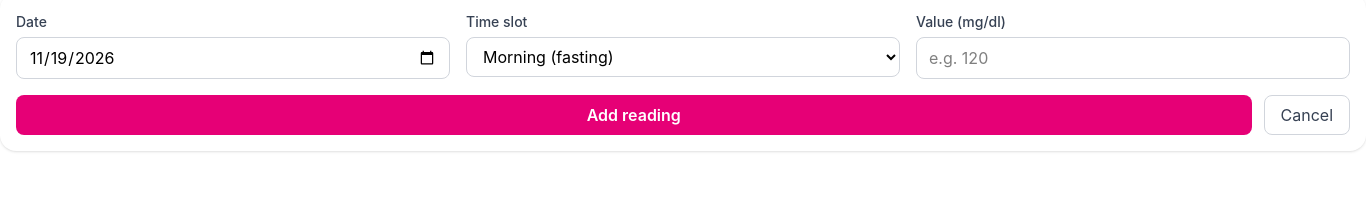
Test: ReadingForm › a future date shows an error
Type "2999-01-01" into the date field labelled "Date" at (233, 58), box x1=16 y1=37 x2=450 y2=79
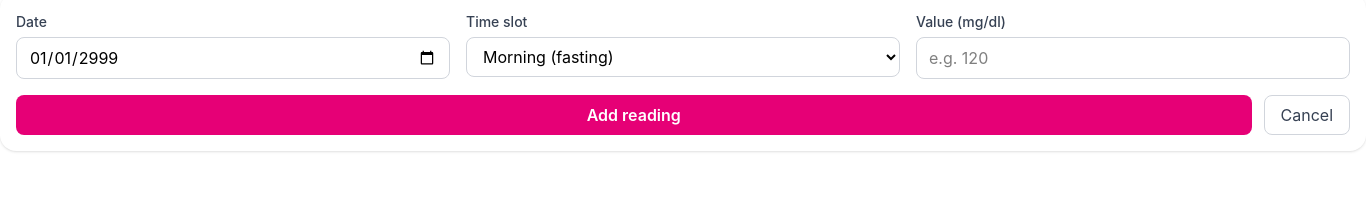
Type "120" into the number field labelled "Value (mg/dl)" at (1133, 58), box x1=916 y1=37 x2=1350 y2=79
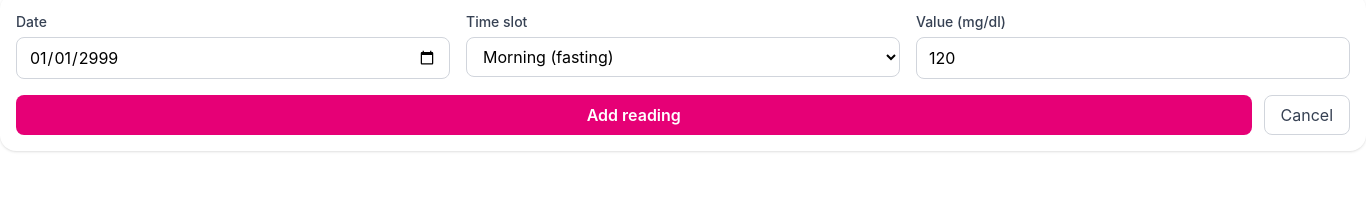
Click the button "Add reading" at (634, 115), box x1=16 y1=95 x2=1252 y2=135
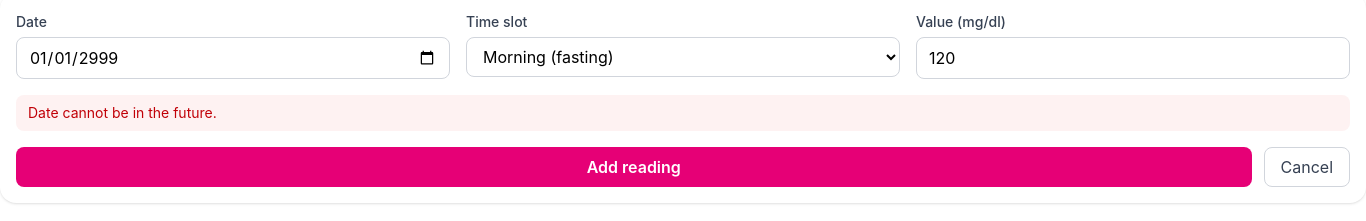
Expected: the text "Date cannot be in the future." is shown, x1=16 y1=95 x2=1350 y2=131
